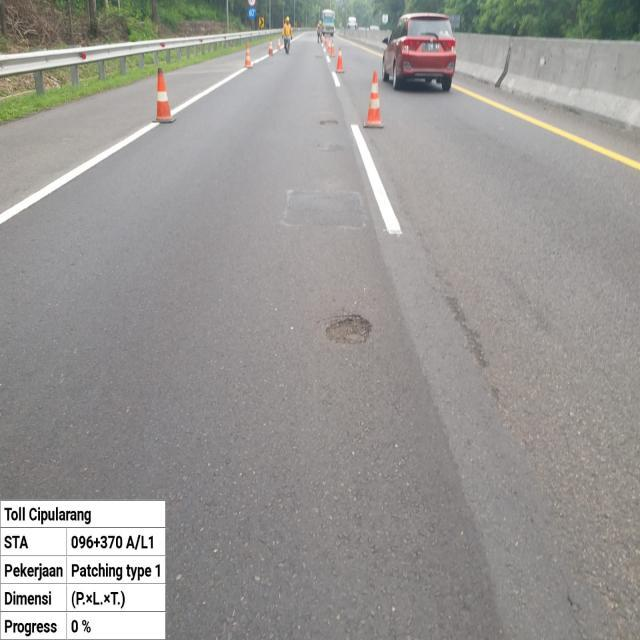Buraco: (322, 313, 374, 347), (318, 119, 341, 128)
